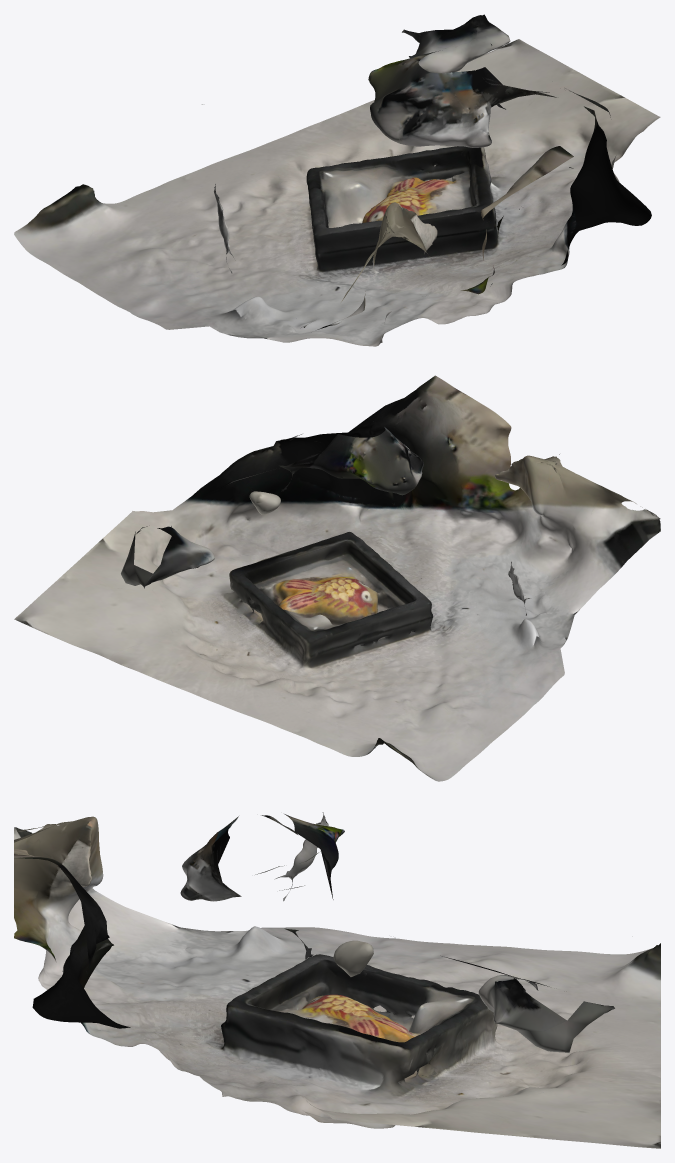
3 views of the same model, one above another, from view 1: azimuth 30°, elevation 25°; view 2: azimuth 150°, elevation 25°; view 3: azimuth 270°, elevation 25° (orthographic). The views are drawn at different scales.
Bounding box in the file's own units: 2.18 × 0.9922 × 2.09.
Materials: 1 (1 with a texture image).
